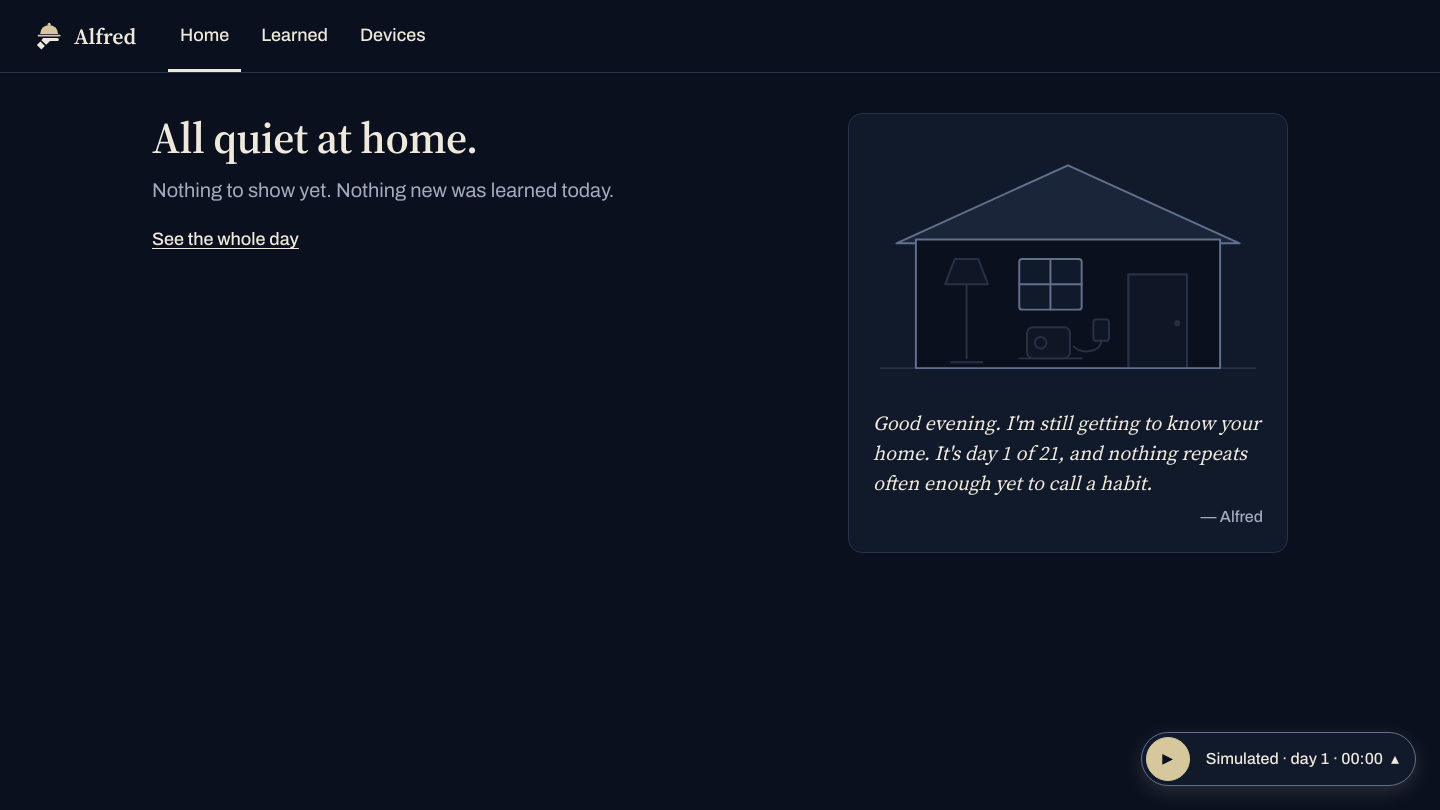
Home's link opens the Timeline, a day opens by its link, and the Devices tab opens its page
Check: the link with aria-label "Alfred home" is shown, box [32,20,136,52]
Press ArrowRight
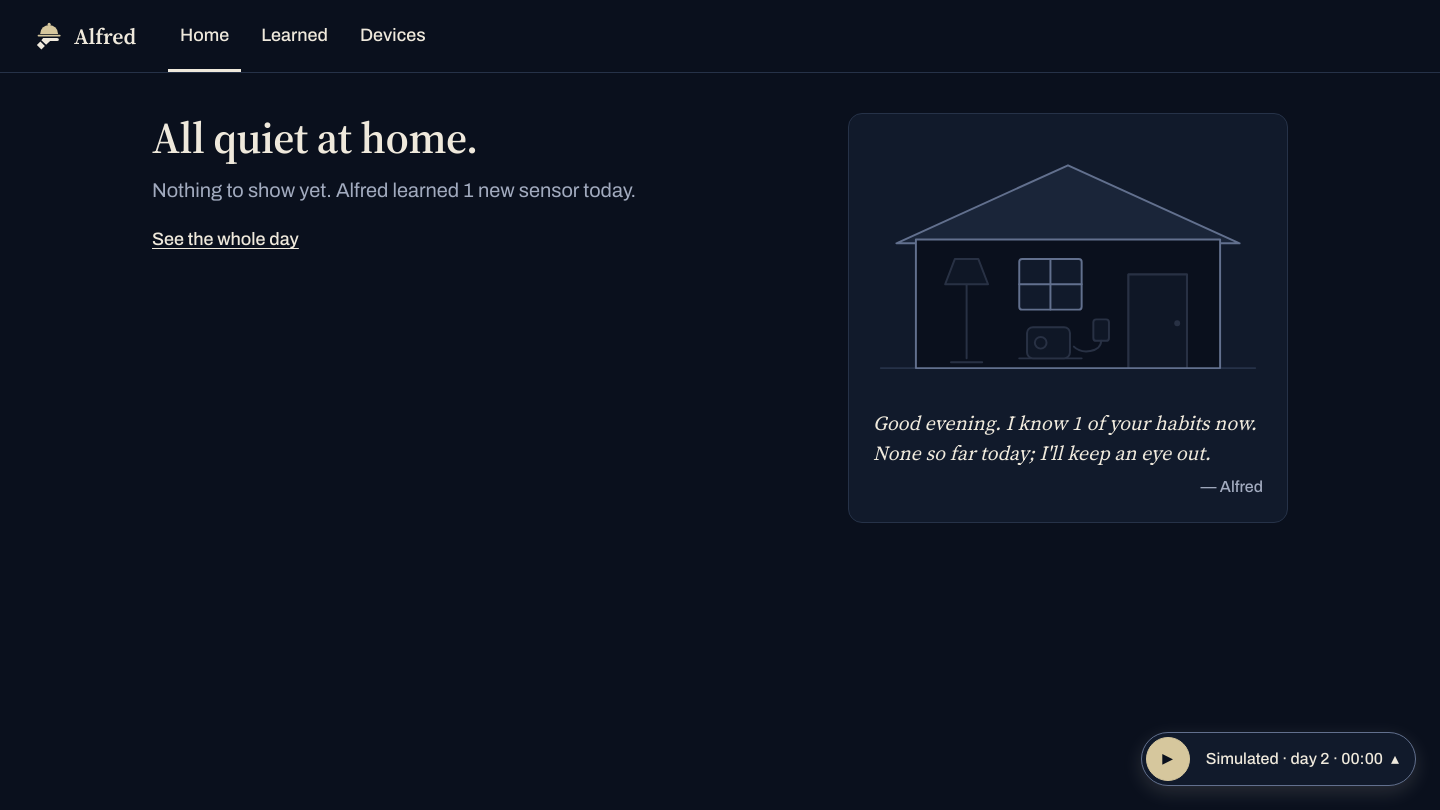
Check: the button "Simulated · day 2 · 00:00 ▴" is shown, box [1194,737,1411,781]
Click the link "See the whole day" at (225, 239), box [152,229,299,249]
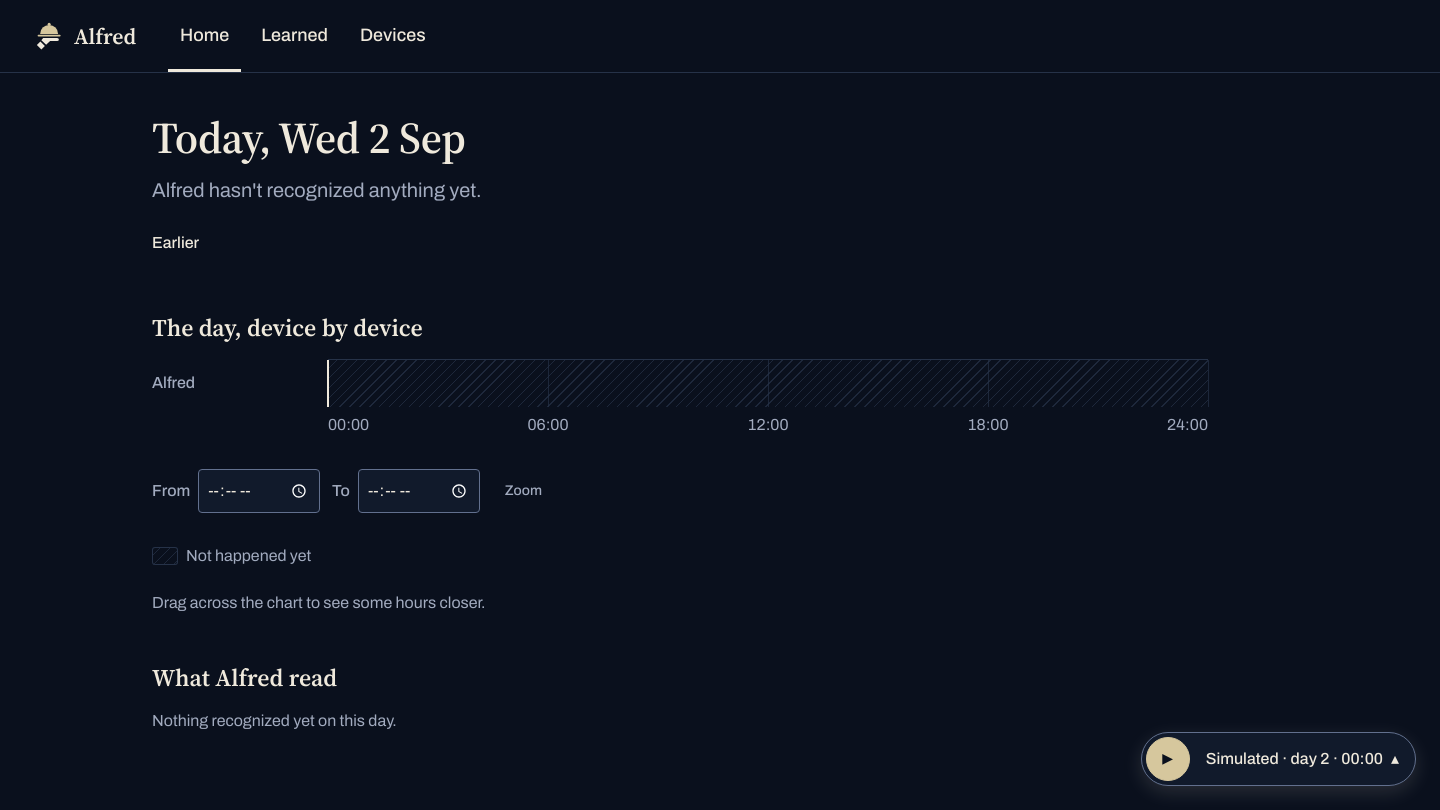
Check: the heading "Today, Wed 2 Sep" is shown, box [152,113,466,163]
Click the link "Earlier" at (176, 242), box [152,234,199,251]
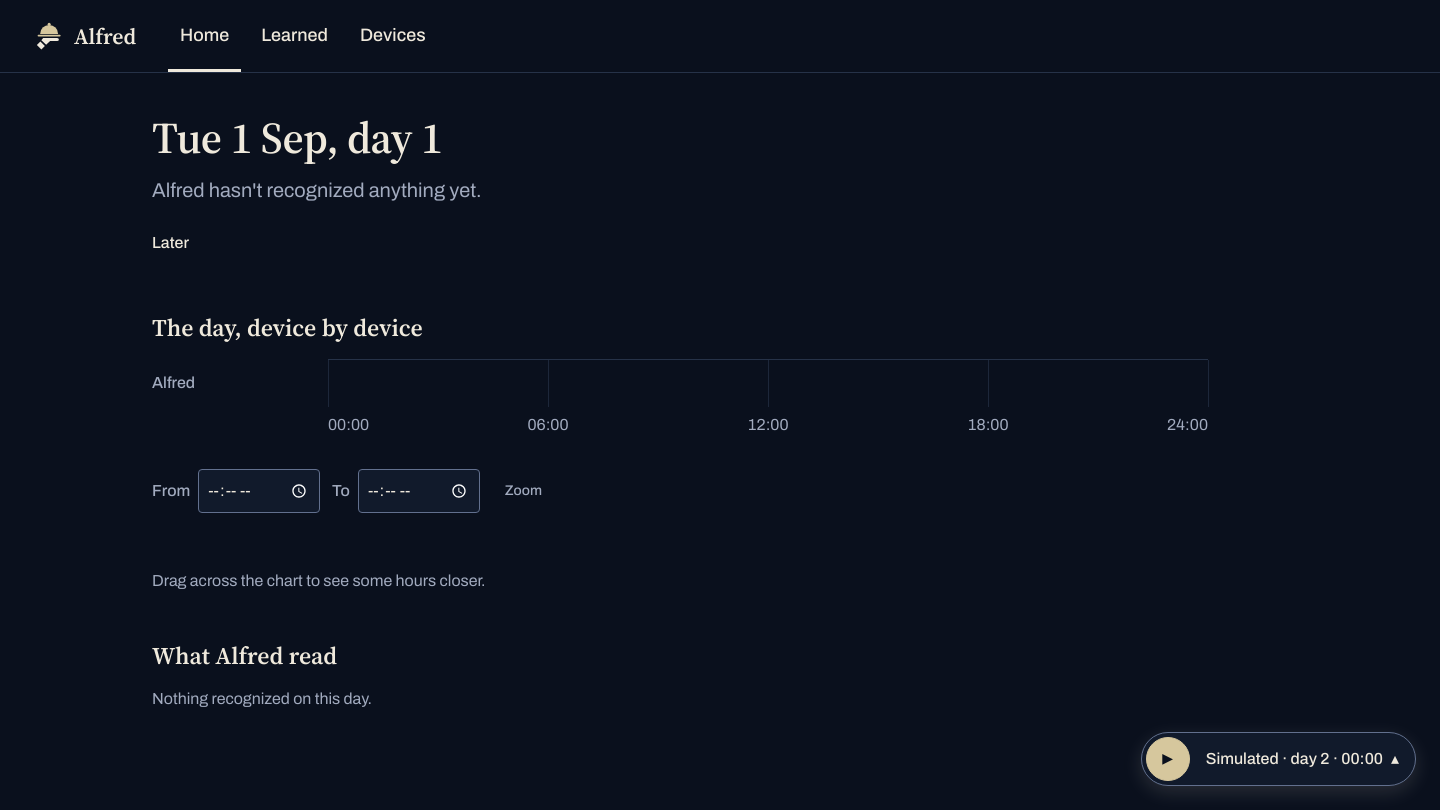
Check: the heading "Tue 1 Sep, day 1" is shown, box [152,113,443,163]
Click the link "Devices" at (393, 34), box [360,24,426,44]
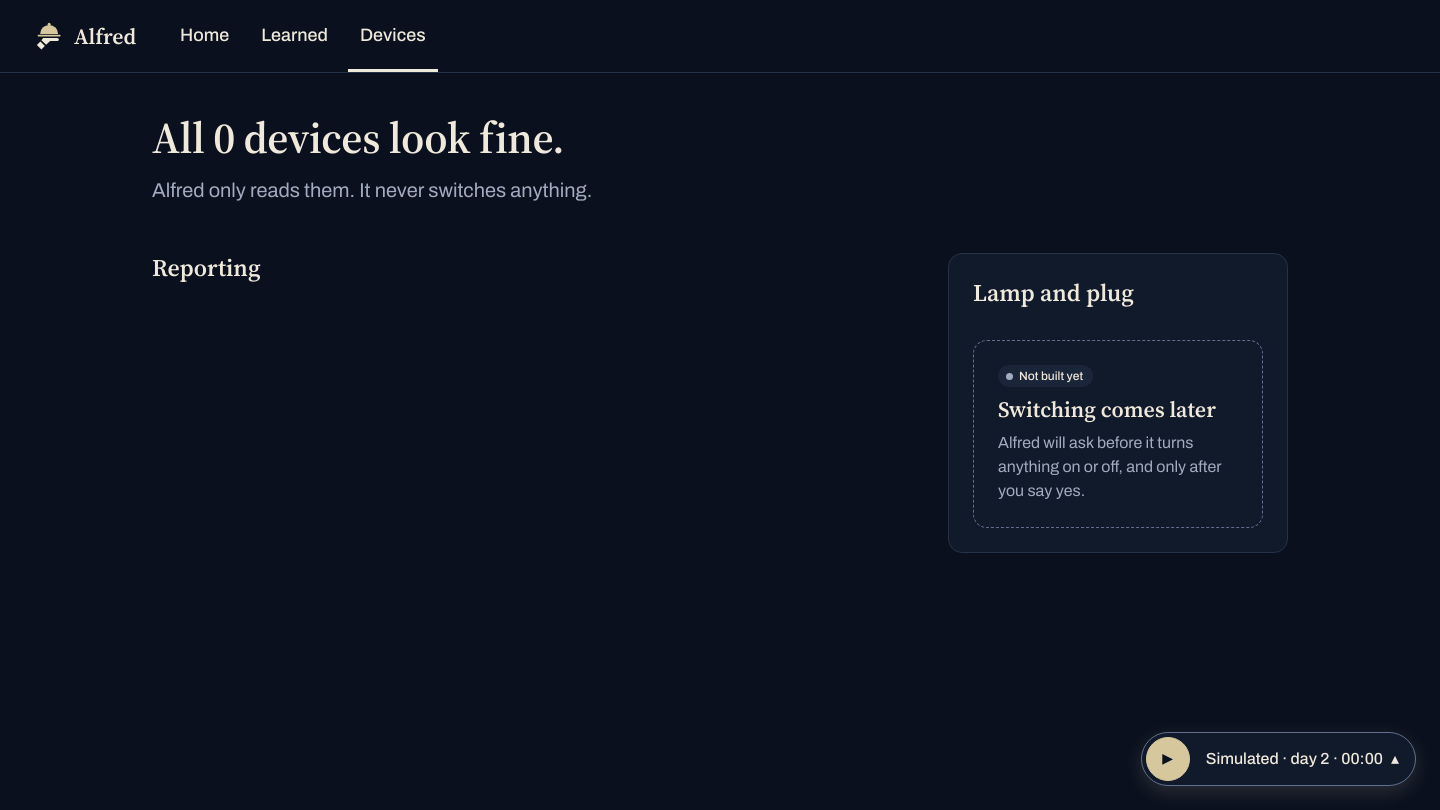
Check: the heading "All 0 devices look fine." is shown, box [152,113,564,163]
